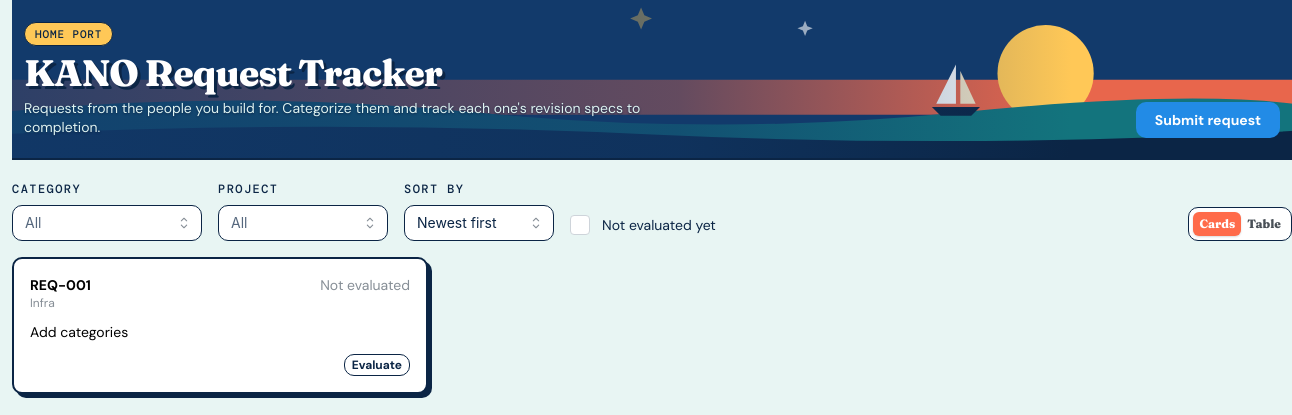
Scenario: Kano Request Tracker view mode › opens on Cards by default and can switch to Table
Click the radio button labelled "Table" at (1264, 223), box [1247,216,1281,231]
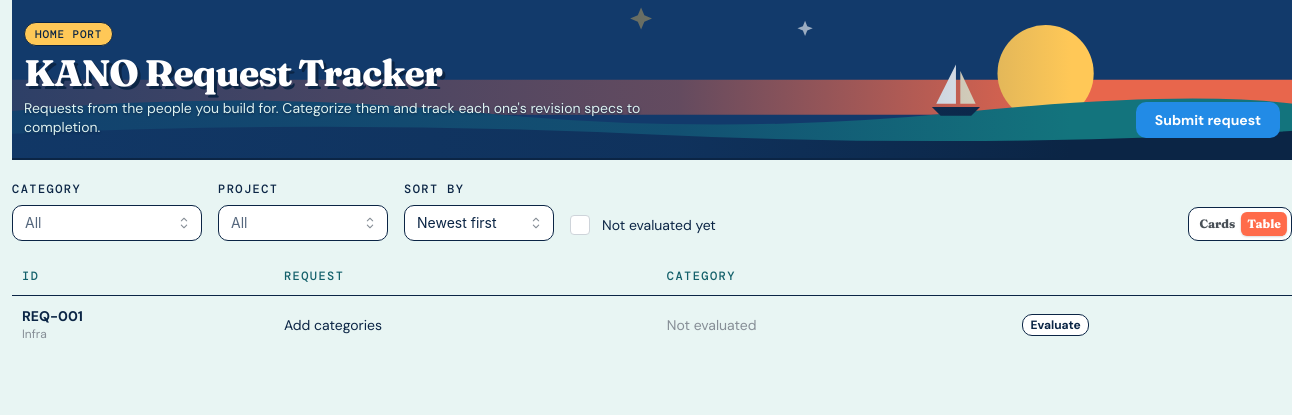
Now the table is shown, box [12,257,1291,353]
